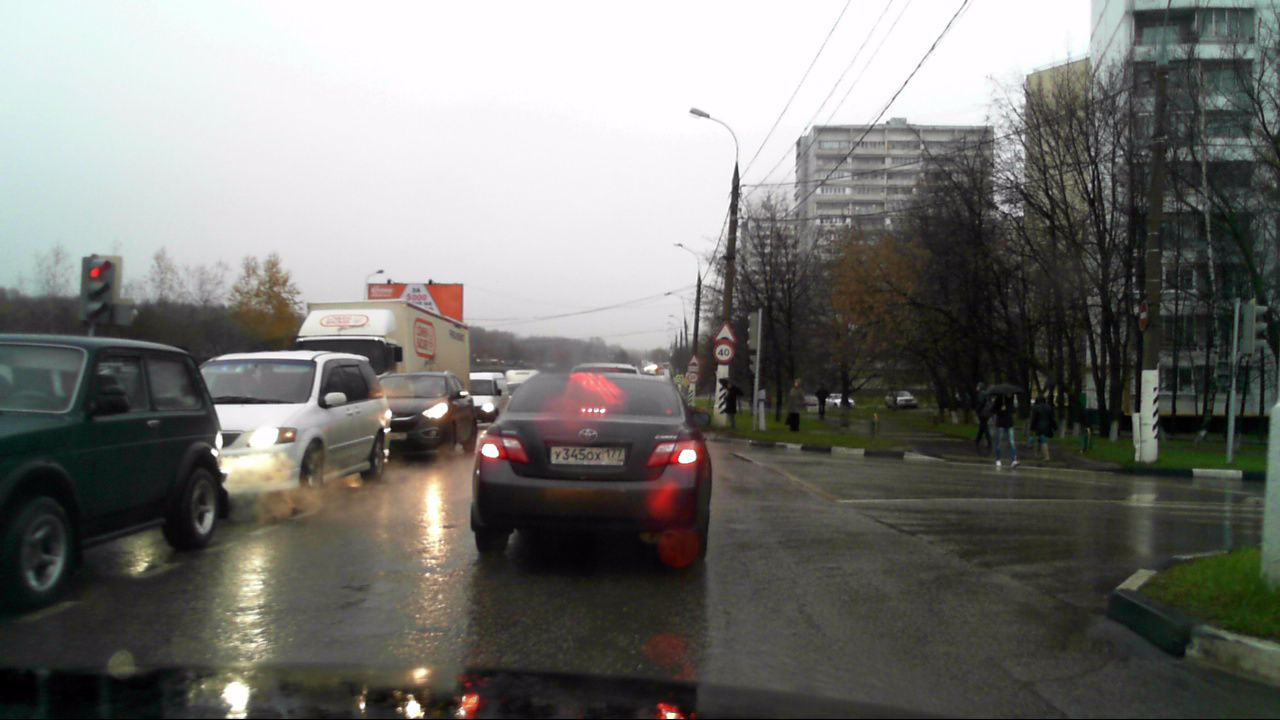speed_warning_40: (714, 342, 733, 361)
